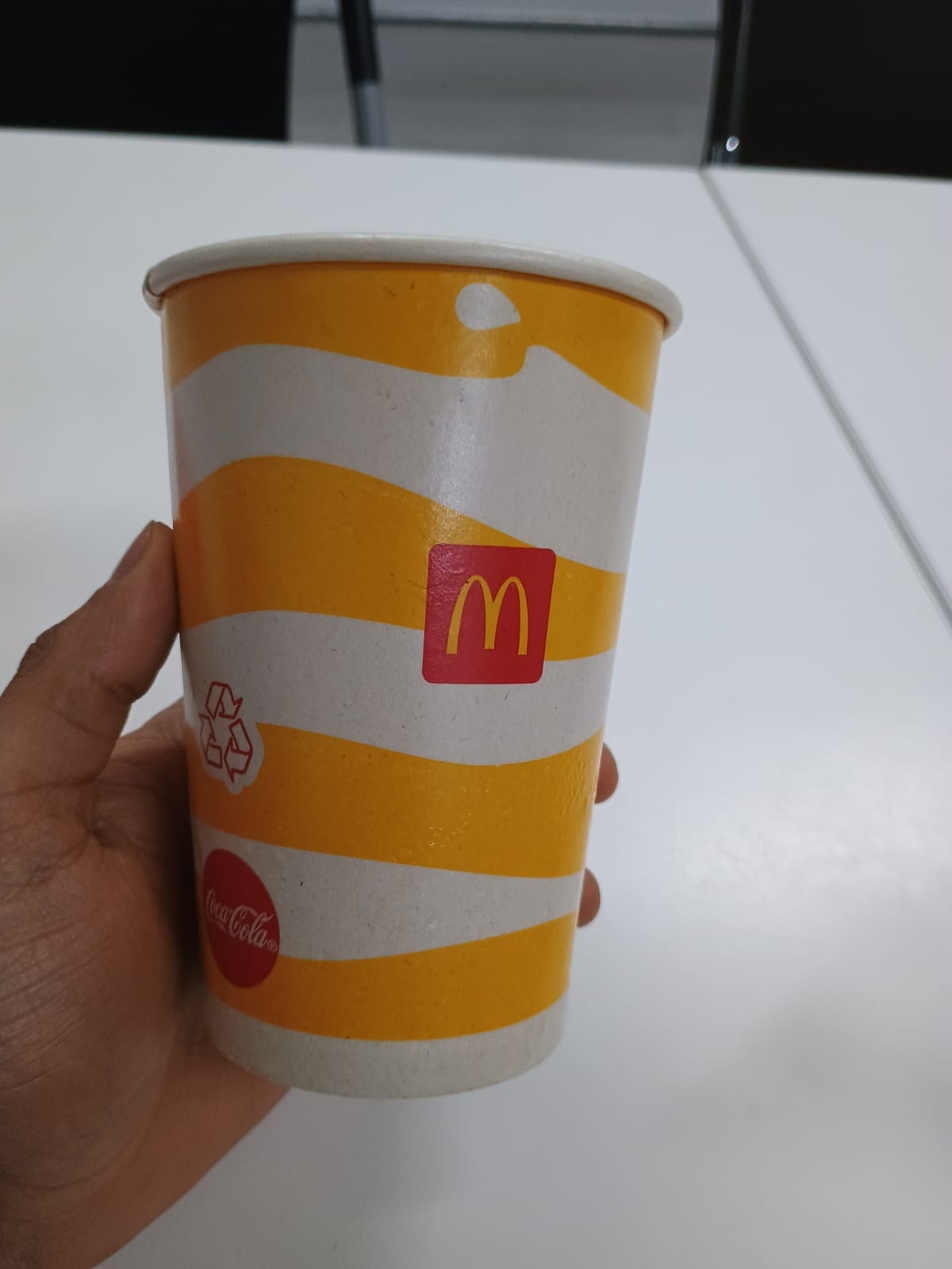Carton: (147, 230, 685, 1097)
